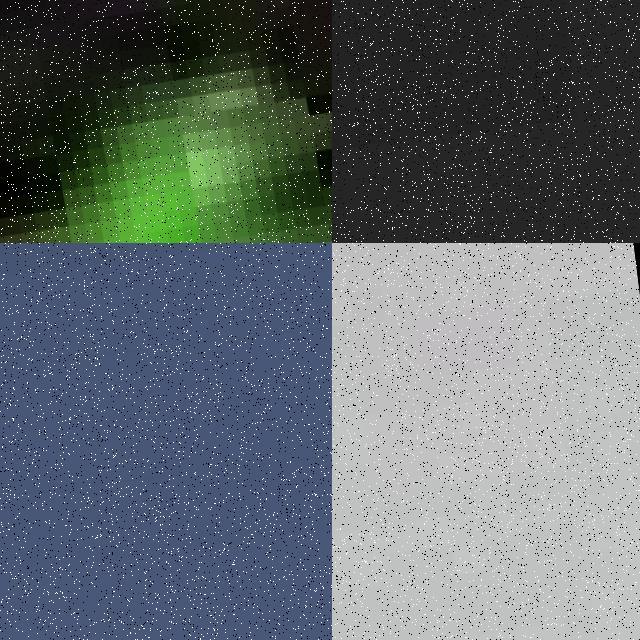0: (0, 0, 332, 243)
drone: (332, 408, 640, 640)
